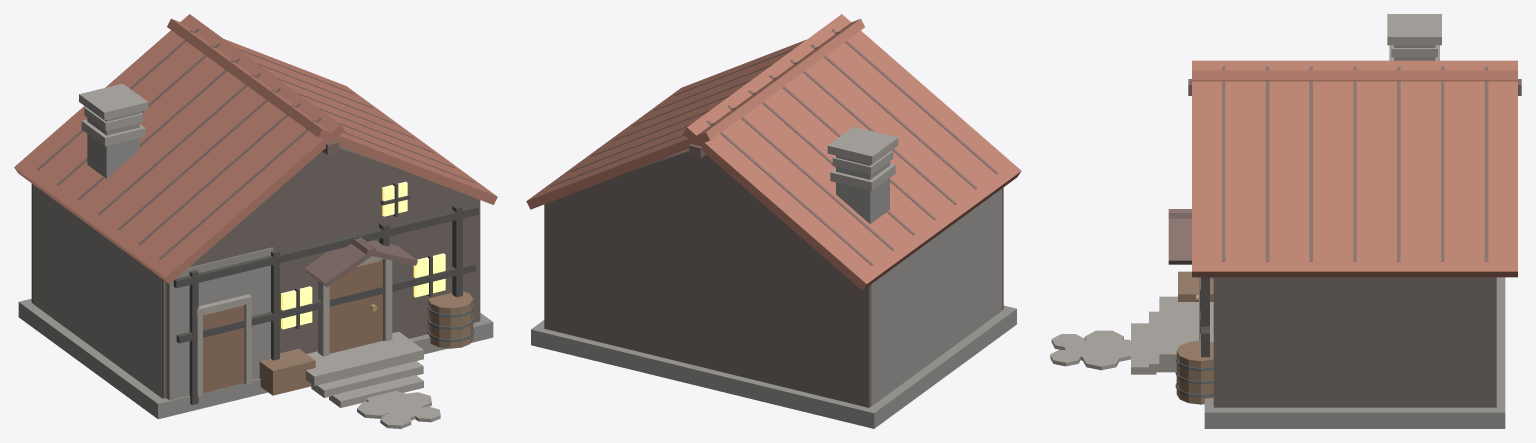
Rendered from Midgard_Viking_House_V1_YUP.glb.
The picture shows the model from 3 angles, left to right: view 1: azimuth 30°, elevation 25°; view 2: azimuth 150°, elevation 25°; view 3: azimuth 270°, elevation 25°; orthographic projection. The views are drawn at different scales.
Visible parts, largest first — view 1: Roof_Left, Left_Stone_Side, Front_Gable, Roof_Right, Main_Walls, Left_Stone_Front, Foundation, Main_Door, Front_Porch, Front_Beam_Top, Side_Door, Front_Beam_Mid (+25 smaller); view 2: Main_Walls, Roof_Left, Left_Stone_Side, Back_Gable, Roof_Right, Foundation, Chimney_Base, Chimney_Cap, Chimney_Band_1, Roof_Batten_L_-1.73, Chimney_Band_2, Roof_Batten_L_1.73 (+3 smaller); view 3: Roof_Right, Main_Walls, Foundation, Roof_Left, Front_Porch, Barrel, Chimney_Cap, Canopy_Right, Step_2, Roof_Batten_R_-2.60, Roof_Batten_R_1.73, Step_1 (+11 smaller).
Part boxes in pixels (x1,y1,x2,y2): Roof_Left: (14, 14, 344, 283); Left_Stone_Side: (33, 184, 161, 397); Front_Gable: (189, 147, 475, 267); Roof_Right: (167, 18, 497, 204); Main_Walls: (31, 146, 480, 398); Left_Stone_Front: (166, 247, 273, 400); Foundation: (18, 298, 493, 419); Main_Door: (329, 260, 382, 353); Front_Porch: (305, 331, 423, 385); Front_Beam_Top: (173, 204, 478, 288); Side_Door: (203, 305, 244, 392); Front_Beam_Mid: (176, 261, 475, 343); Main_Walls: (544, 149, 1003, 407); Roof_Left: (683, 14, 1021, 290); Left_Stone_Side: (870, 189, 1001, 406); Back_Gable: (549, 150, 843, 274); Roof_Right: (526, 19, 864, 209); Foundation: (531, 305, 1016, 428); Chimney_Base: (836, 155, 889, 223); Chimney_Cap: (827, 126, 898, 164); Chimney_Band_1: (830, 163, 895, 190); Roof_Batten_L_-1.73: (727, 105, 894, 250); Chimney_Band_2: (832, 151, 893, 174); Roof_Batten_L_1.73: (811, 44, 977, 189); Roof_Right: (1192, 60, 1517, 277); Main_Walls: (1213, 277, 1496, 407); Foundation: (1204, 277, 1505, 428); Roof_Left: (1192, 70, 1517, 81); Front_Porch: (1159, 296, 1213, 364); Barrel: (1176, 340, 1213, 404); Chimney_Cap: (1387, 14, 1441, 45); Canopy_Right: (1168, 209, 1191, 264); Step_2: (1131, 323, 1156, 374); Roof_Batten_R_-2.60: (1484, 66, 1488, 261); Roof_Batten_R_1.73: (1265, 66, 1269, 261); Step_1: (1149, 311, 1176, 372).
Size of the model in its own units: 8.25 by 6.01 by 9.33.
